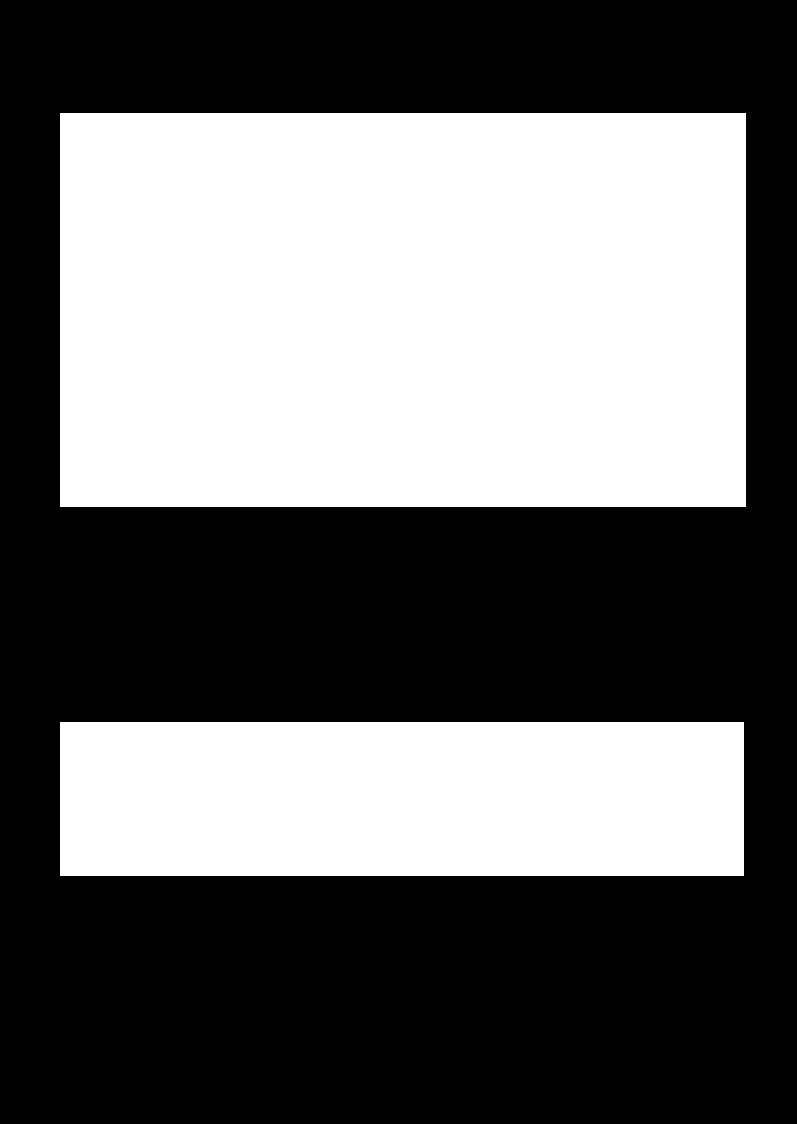table: (60, 113, 745, 506), (60, 722, 743, 875)
